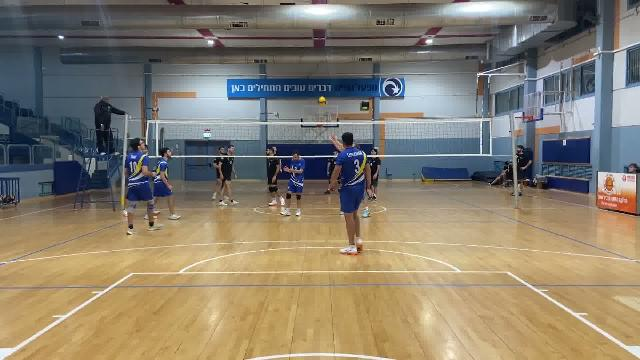ball: (319, 95, 326, 107)
